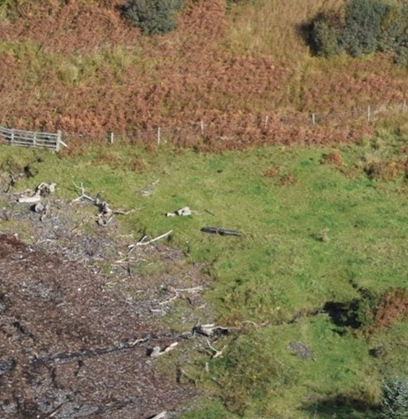tube: (193, 212, 250, 247)
